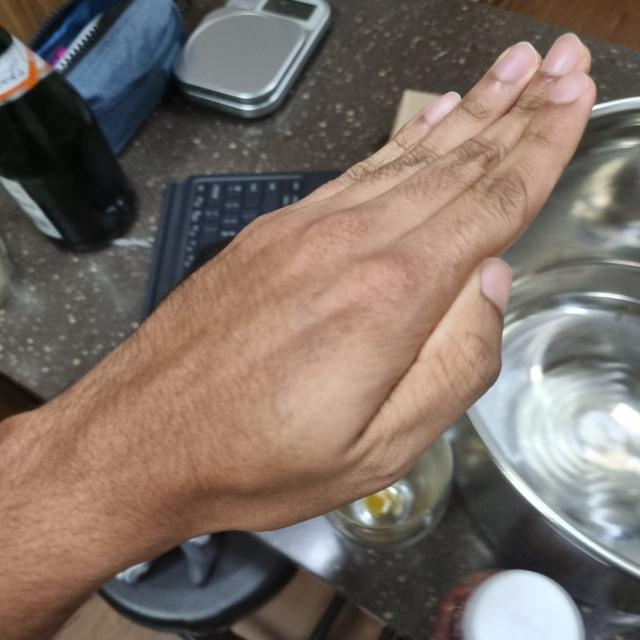Paper: (76, 36, 595, 538)
